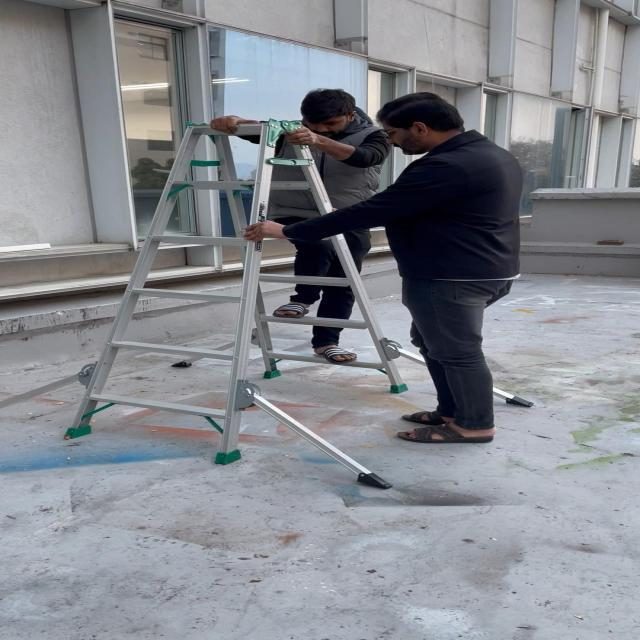boots: (1, 121, 543, 491)
vest: (239, 92, 529, 444), (215, 86, 385, 362)
